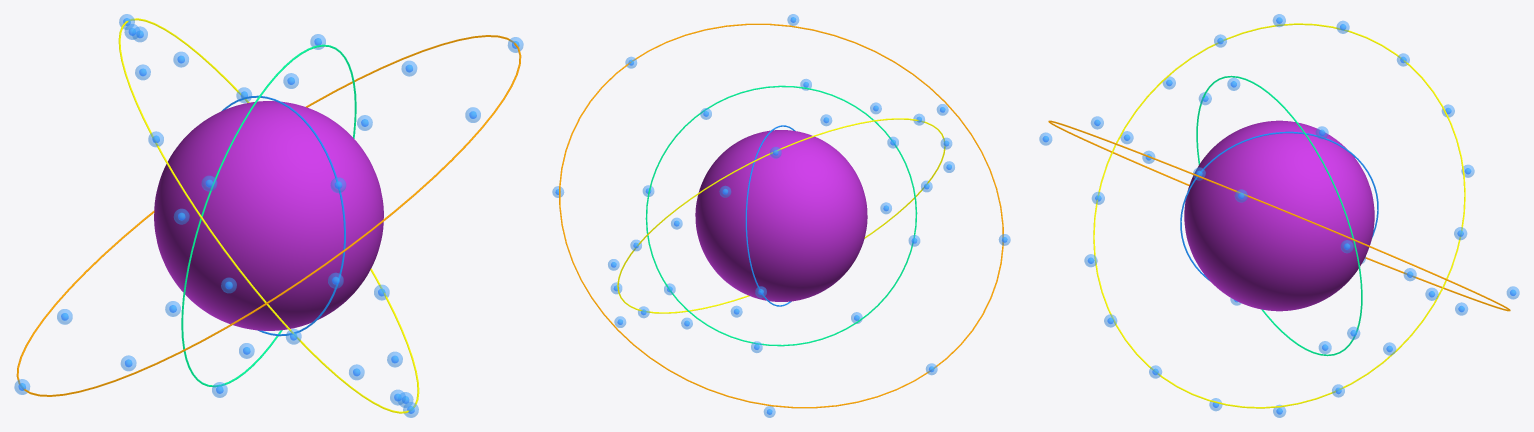
3 renders of one model, left to right at view 1: azimuth 30°, elevation 25°; view 2: azimuth 150°, elevation 25°; view 3: azimuth 270°, elevation 25°, orthographic. The views are drawn at different scales.
Parts seen in each view (by area): view 1: Kr, object 61, object 24, object 7, object 2; view 2: Kr, object 61, object 7, object 24, object 2; view 3: Kr, object 24, object 61, object 7, object 2.
Part boxes in pixels (x1,y1,x2,y2): Kr: [154, 101, 383, 330]; object 61: [16, 35, 521, 396]; object 24: [118, 18, 419, 413]; object 7: [181, 44, 356, 387]; object 2: [222, 95, 345, 336]; Kr: [695, 130, 867, 301]; object 61: [559, 23, 1003, 408]; object 7: [645, 85, 917, 346]; object 24: [617, 118, 945, 313]; object 2: [745, 125, 795, 306]; Kr: [1184, 120, 1374, 311]; object 24: [1093, 23, 1465, 408]; object 61: [1048, 120, 1510, 311]; object 7: [1196, 75, 1362, 356]; object 2: [1180, 131, 1378, 280].
Size of the model in its own units: 5.47 by 4.12 by 5.79.
